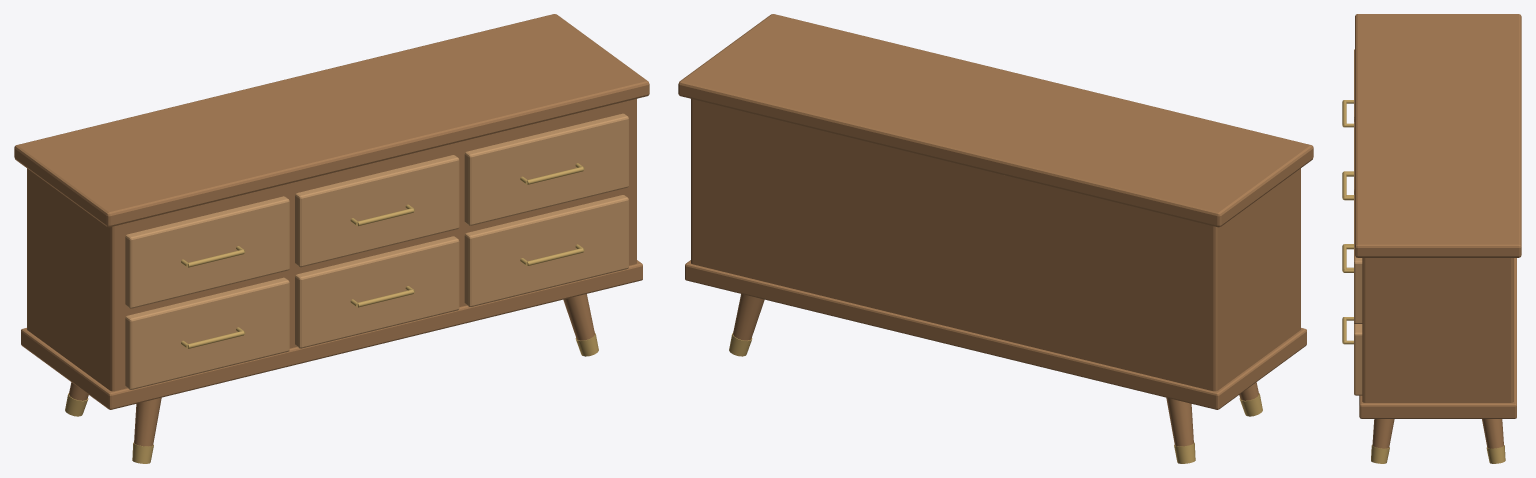
File: dresser_midcentury.glb
3 views of the same model, side by side, from view 1: azimuth 30°, elevation 25°; view 2: azimuth 150°, elevation 25°; view 3: azimuth 270°, elevation 25° (orthographic). The views are drawn at different scales.
Visible parts, largest first — view 1: Low midcentury dresser overhanging top, Low midcentury dresser closed cabinet, Midcentury drawer 1-1 closed drawer face, Midcentury drawer 2-1 closed drawer face, Midcentury drawer 1-3 closed drawer face, Midcentury drawer 2-3 closed drawer face, Midcentury drawer 1-2 closed drawer face, Midcentury drawer 2-2 closed drawer face, Low midcentury dresser base molding, Midcentury splayed tapered leg, Midcentury splayed tapered leg.002; view 2: Low midcentury dresser closed cabinet, Low midcentury dresser overhanging top, Low midcentury dresser base molding, Midcentury splayed tapered leg.001, Midcentury splayed tapered leg.003; view 3: Low midcentury dresser overhanging top, Low midcentury dresser closed cabinet, Low midcentury dresser base molding, Midcentury drawer 2-3 closed drawer face, Midcentury drawer 1-3 closed drawer face, Midcentury splayed tapered leg.002, Midcentury splayed tapered leg.003, Midcentury brass foot ferrule.002, Midcentury brass foot ferrule.003.
Part boxes in pixels (x1,y1,x2,y2): Low midcentury dresser overhanging top: (14,14,649,227); Low midcentury dresser closed cabinet: (27,99,636,391); Midcentury drawer 1-1 closed drawer face: (125,277,289,389); Midcentury drawer 2-1 closed drawer face: (125,196,289,308); Midcentury drawer 1-3 closed drawer face: (464,195,628,307); Midcentury drawer 2-3 closed drawer face: (464,113,628,225); Midcentury drawer 1-2 closed drawer face: (295,236,459,348); Midcentury drawer 2-2 closed drawer face: (295,155,459,267); Low midcentury dresser base molding: (21,260,642,409); Midcentury splayed tapered leg: (134,397,161,446); Midcentury splayed tapered leg.002: (563,294,594,340); Low midcentury dresser closed cabinet: (691,99,1300,391); Low midcentury dresser overhanging top: (678,14,1313,227); Low midcentury dresser base molding: (685,260,1306,409); Midcentury splayed tapered leg.001: (1166,397,1193,446); Midcentury splayed tapered leg.003: (733,294,764,340); Low midcentury dresser overhanging top: (1355,14,1521,257); Low midcentury dresser closed cabinet: (1362,258,1513,402); Low midcentury dresser base molding: (1359,258,1516,418); Midcentury drawer 2-3 closed drawer face: (1354,194,1362,323); Midcentury drawer 1-3 closed drawer face: (1354,323,1362,395); Midcentury splayed tapered leg.002: (1372,419,1394,448); Midcentury splayed tapered leg.003: (1482,419,1503,448); Midcentury brass foot ferrule.002: (1371,445,1389,463); Midcentury brass foot ferrule.003: (1486,445,1505,463).
Size of the model in its own units: 1.67 by 0.7969 by 0.543.
